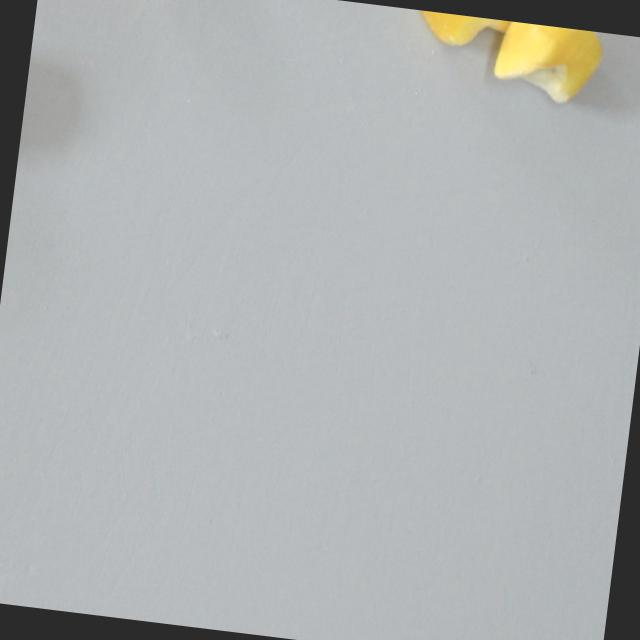no_canjicado: (414, 10, 518, 60)
punto_negro: (489, 20, 606, 111)
